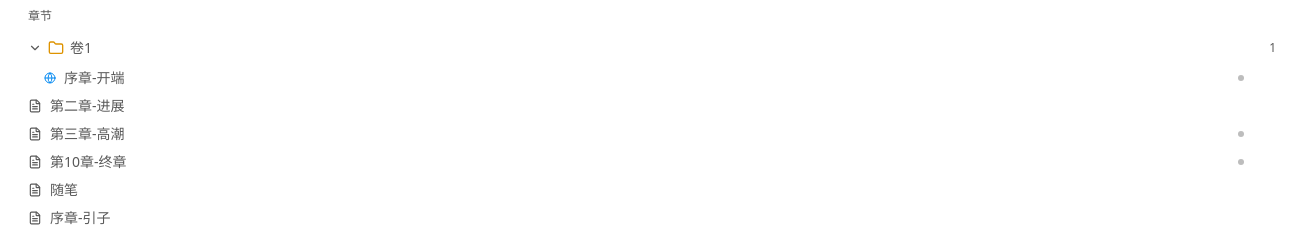
Test: KnowledgeTree › 空白区右键：创建菜单（无删除项）+ 新建回调
This screenshot has width=1291, height=242.
expect the text "第二章-进展" is shown: met, box top-left (50, 96), bottom-right (124, 115)
Right-click the text "章节" at (40, 16), box top-left (28, 7), bottom-right (52, 24)
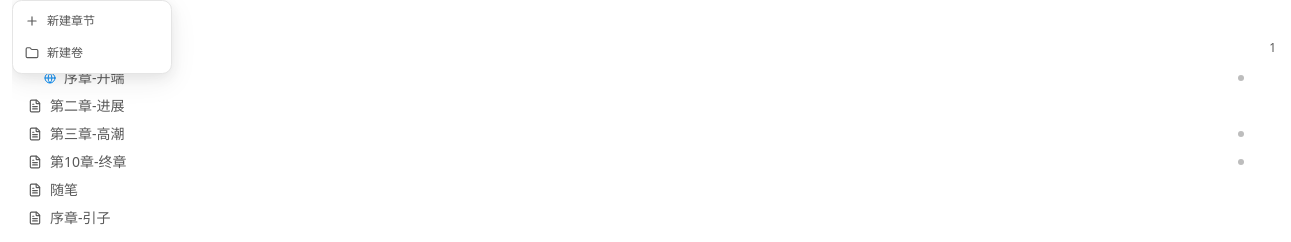
expect the button "新建章节" is shown: met
expect the button "新建卷" is shown: met, box top-left (13, 37), bottom-right (171, 69)
Click the button "新建章节" at (92, 21), box top-left (13, 5), bottom-right (171, 37)
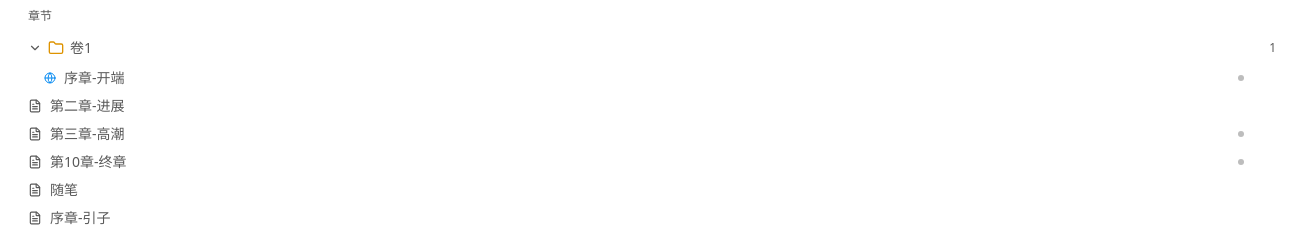
expect the button "新建章节" is gone: met
